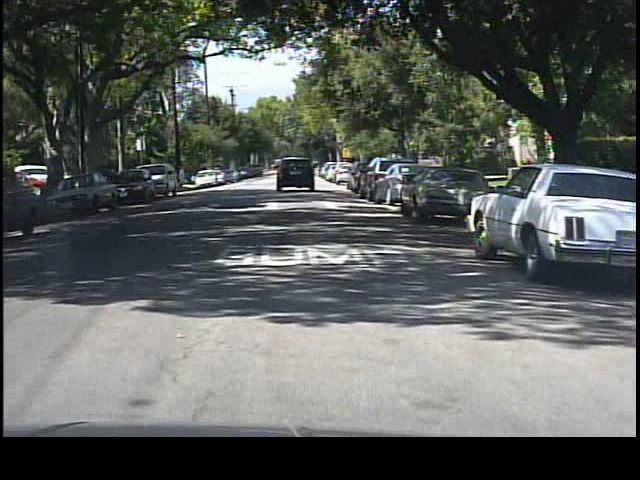person: (179, 163, 189, 192)
